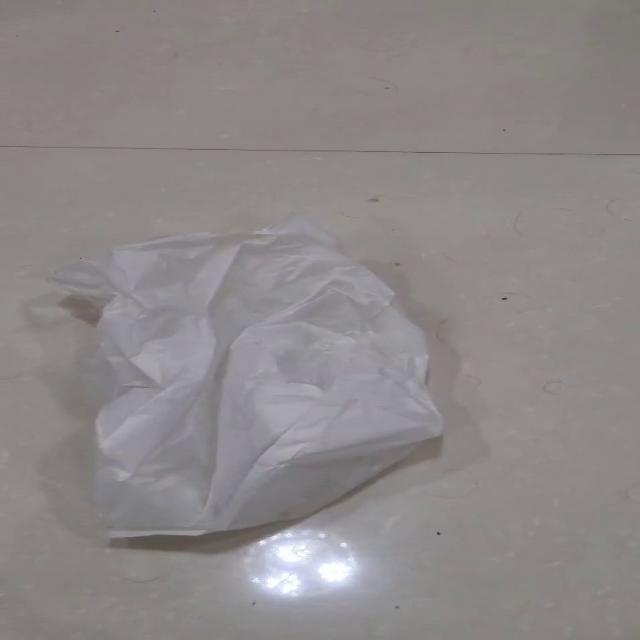plastic: (47, 214, 444, 538)
